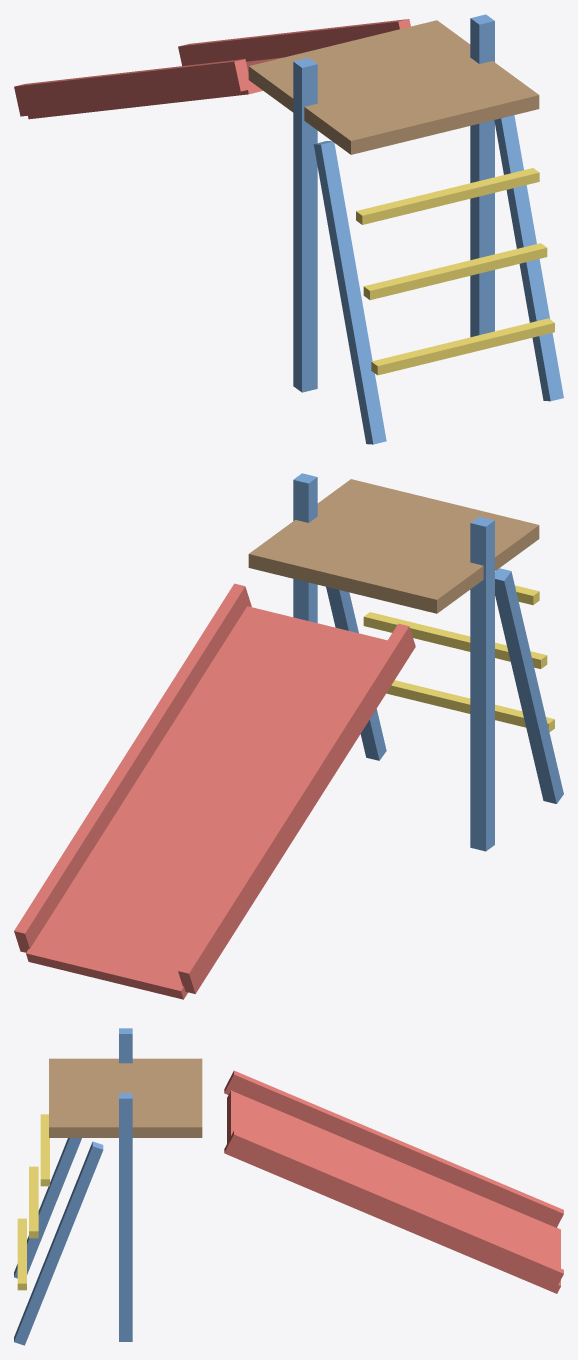
File: slide.glb
3 views of the same model, one above another, from view 1: azimuth 30°, elevation 25°; view 2: azimuth 150°, elevation 25°; view 3: azimuth 270°, elevation 25° (orthographic). The views are drawn at different scales.
Visible parts, largest first — view 1: slide; view 2: slide; view 3: slide.
Part boxes in pixels (x1=…): slide: x1=14, y1=14, x2=563, y2=444; slide: x1=14, y1=473, x2=563, y2=999; slide: x1=14, y1=1028, x2=563, y2=1345.
Bounding box in the file's own units: 0.87 × 1.42 × 2.87.
